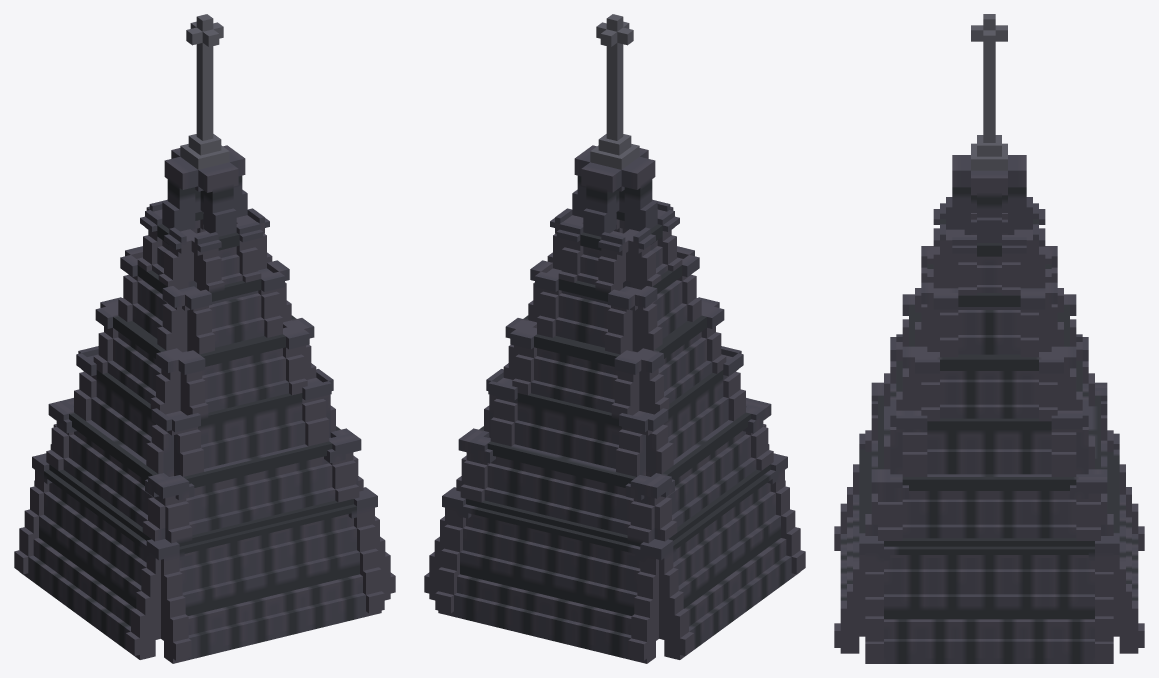
File: TowerRooftop-2.fbx
3 views of the same model, side by side, from view 1: azimuth 30°, elevation 25°; view 2: azimuth 150°, elevation 25°; view 3: azimuth 270°, elevation 25° (orthographic). The views are drawn at different scales.
Parts seen in each view (by area): view 1: TowerRooftop-2; view 2: TowerRooftop-2; view 3: TowerRooftop-2.
Part boxes in pixels (x1=…): TowerRooftop-2: x1=14, y1=14, x2=395, y2=663; TowerRooftop-2: x1=424, y1=14, x2=805, y2=663; TowerRooftop-2: x1=834, y1=14, x2=1144, y2=663.
Bounding box in the file's own units: 250 × 520 × 250.
